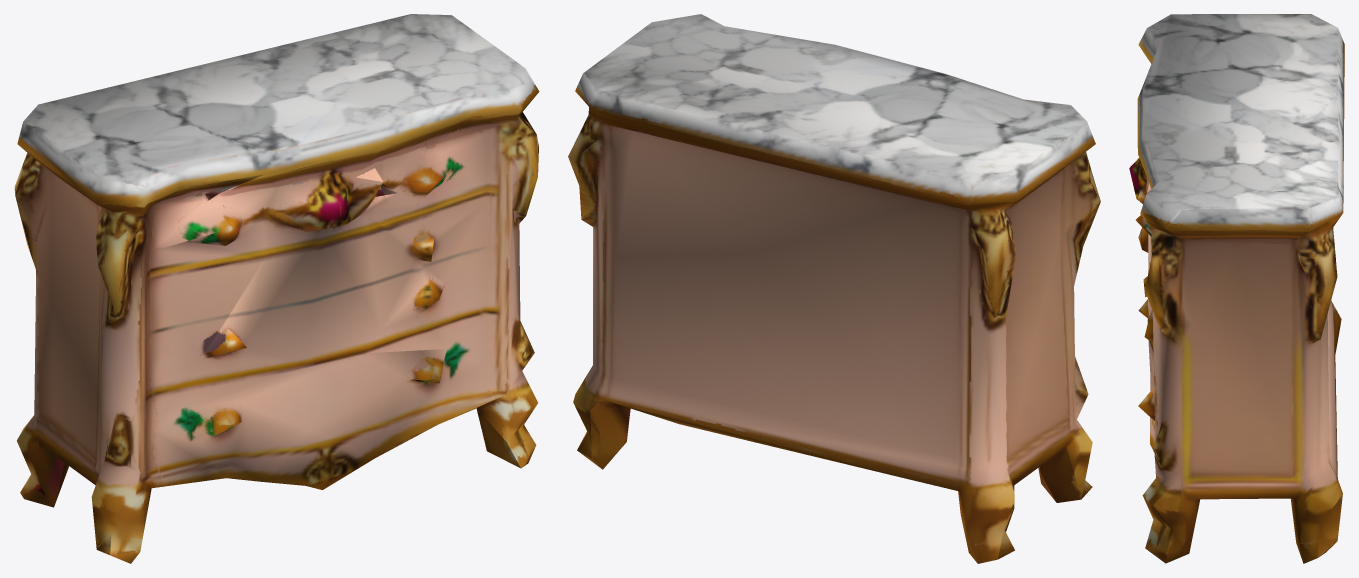
Rendered from baroque-dresser.glb.
3 views of the same model, side by side, from view 1: azimuth 30°, elevation 25°; view 2: azimuth 150°, elevation 25°; view 3: azimuth 270°, elevation 25° (orthographic). The views are drawn at different scales.
Parts seen in each view (by area): view 1: geometry_0.001; view 2: geometry_0.001; view 3: geometry_0.001.
Boxes of the visible parts, x1,y1,x2,y2 form: geometry_0.001: (14,14,539,563); geometry_0.001: (568,14,1100,563); geometry_0.001: (1129,14,1344,563).
Size of the model in its own units: 0.9996 by 0.832 by 0.4532.
1 material, 1 textured.
